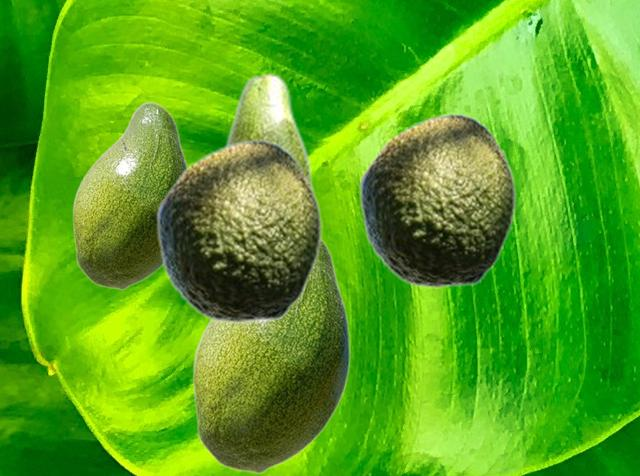avocado: (192, 237, 350, 473), (155, 139, 321, 322), (358, 113, 515, 287), (72, 101, 187, 289), (221, 71, 312, 182)
